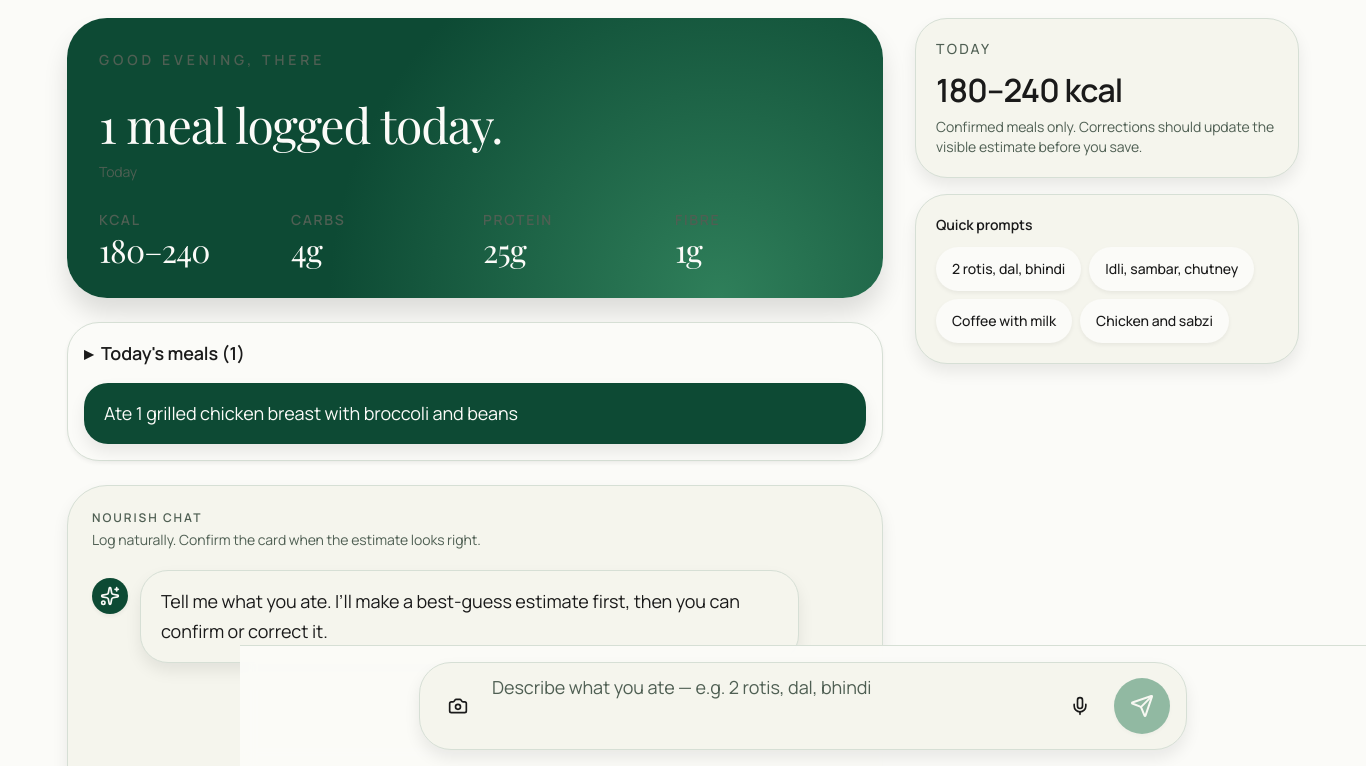
Test: ChatMealLogger › sends a meal message and renders the rich estimate card with confirm action
The width and height of the screenshot is (1366, 766).
Step 1. Type "I had 2 idlis and sambar for breakfast" into the text box named "Meal message" → {"x": 769, "y": 703}, box [492,675,1046,731]
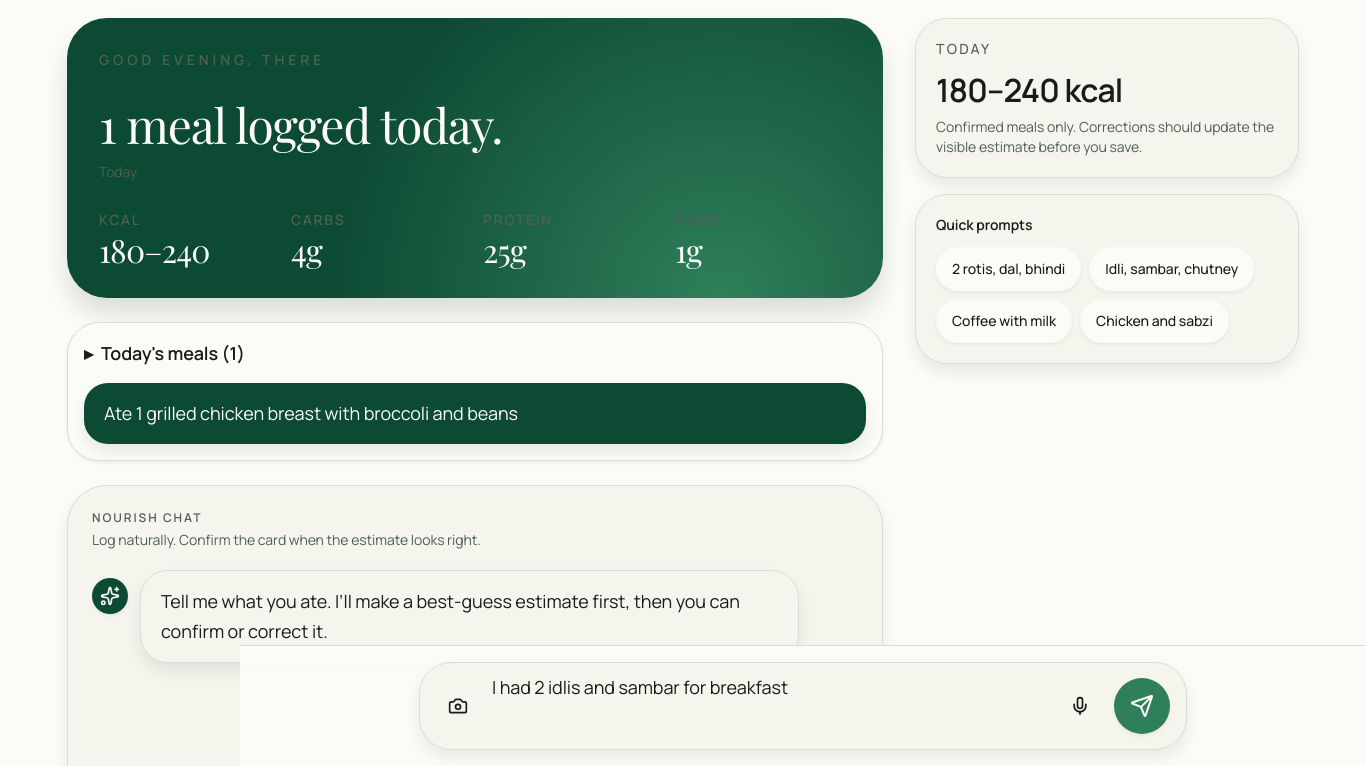
Step 2. Click the button named "Send meal message" → {"x": 1142, "y": 706}, box [1114,678,1170,734]
(page scrolled)
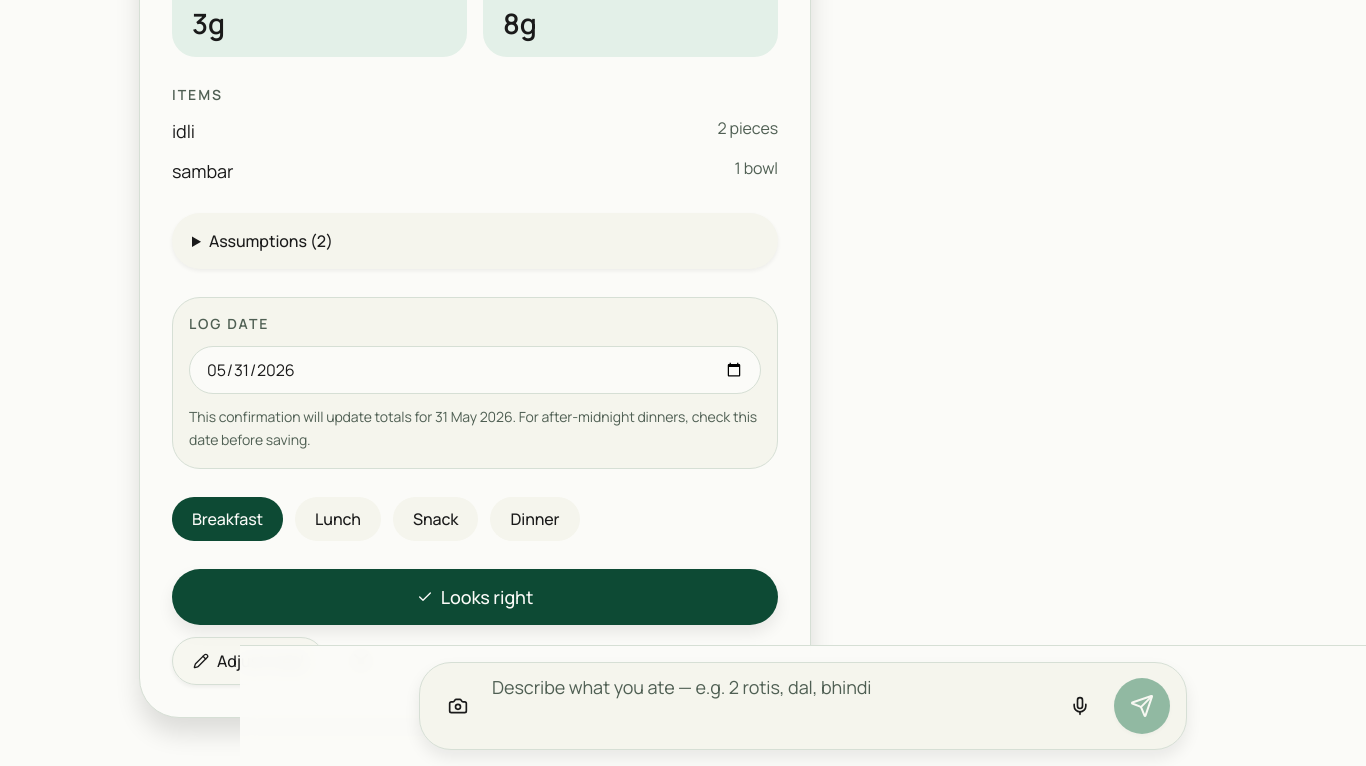
Result: the text "idli" is shown at [172,117,195,145]
Result: the text "2 pieces" is shown at [717,117,778,139]
Result: the date field labelled "Log date" holds "2026-05-31" at [189,346,761,394]
